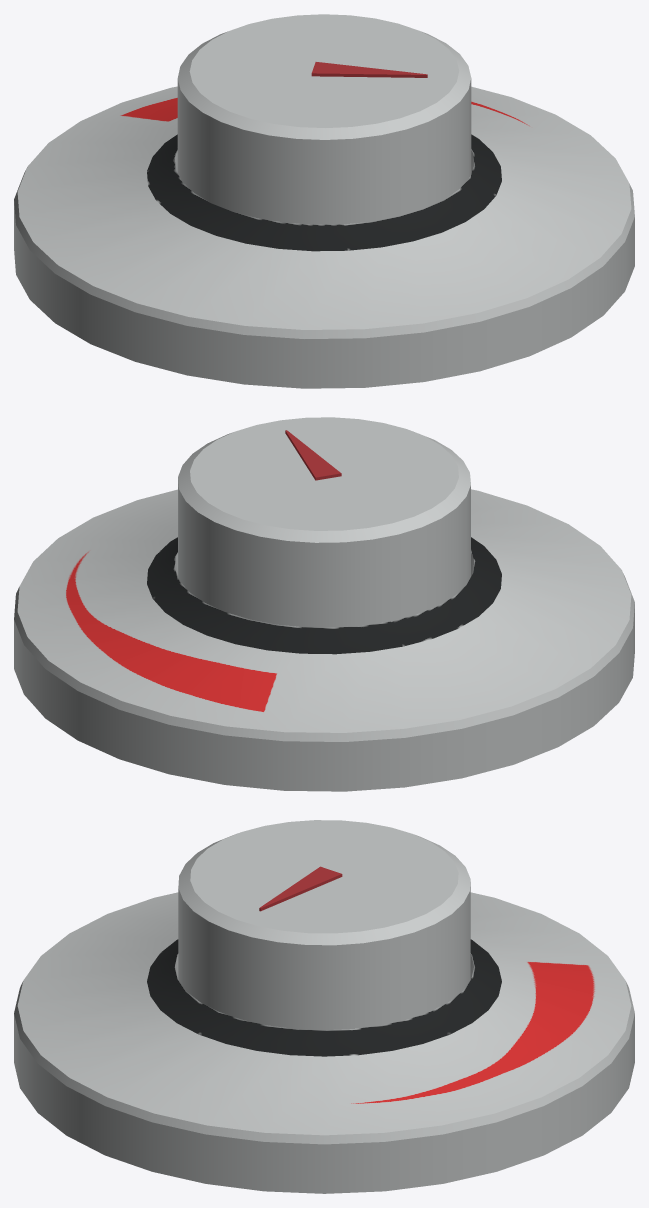
The model's file is Dial.fbx.
The picture shows the model from 3 angles, top to bottom: view 1: azimuth 30°, elevation 25°; view 2: azimuth 150°, elevation 25°; view 3: azimuth 270°, elevation 25°; orthographic projection.
Parts seen in each view (by area): view 1: Base, Knob, Arrow; view 2: Base, Knob, Arrow; view 3: Base, Knob, Arrow.
Part boxes in pixels (left/top/right/bottom): Base: left=14, top=86, right=634, bottom=388; Knob: left=177, top=14, right=471, bottom=224; Arrow: left=311, top=62, right=427, bottom=77; Base: left=14, top=489, right=634, bottom=791; Knob: left=178, top=417, right=470, bottom=627; Arrow: left=285, top=430, right=341, bottom=480; Base: left=14, top=892, right=634, bottom=1193; Knob: left=178, top=820, right=470, bottom=1030; Arrow: left=259, top=866, right=342, bottom=911.
Size of the model in its own units: 2 by 2 by 0.671.
1 material, 1 textured.
